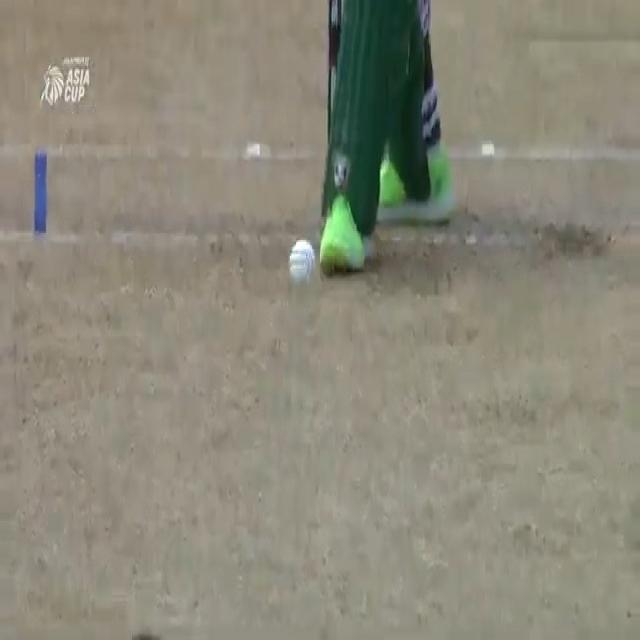Cricket ball: (288, 236, 317, 288)
